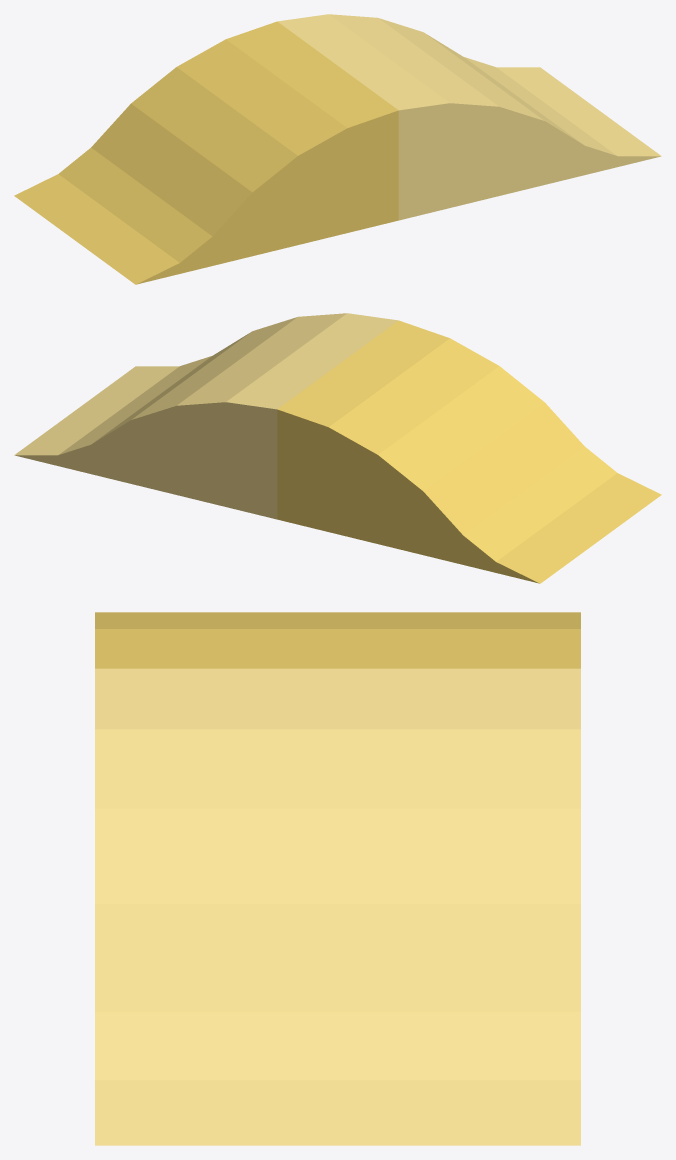
File: island-oval-small.fbx
The picture shows the model from 3 angles, top to bottom: view 1: azimuth 30°, elevation 25°; view 2: azimuth 150°, elevation 25°; view 3: azimuth 270°, elevation 25°; orthographic projection. The views are drawn at different scales.
Parts seen in each view (by area): view 1: Circle; view 2: Circle; view 3: Circle.
Part boxes in pixels (x1,y1,x2,y2): Circle: [14, 14, 661, 284]; Circle: [14, 313, 661, 583]; Circle: [95, 612, 580, 1145].
Bounding box in the file's own units: 100000 × 20000 × 40000.
